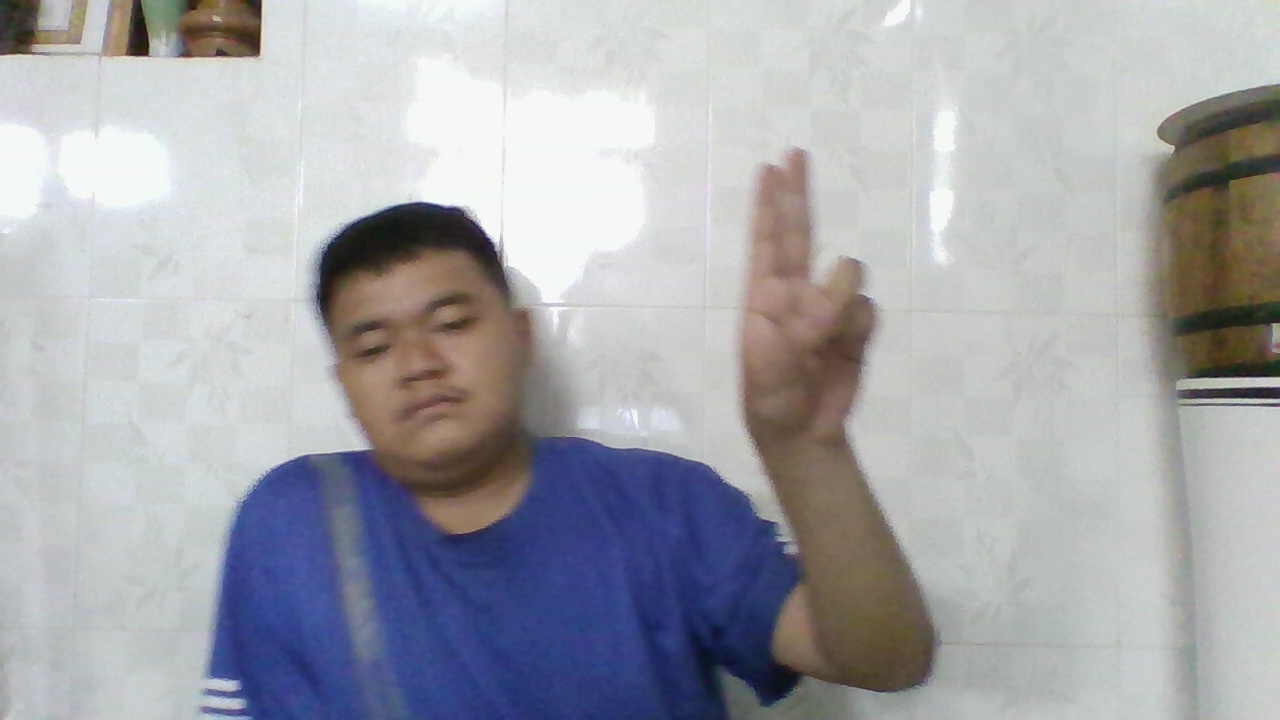U: (750, 144, 884, 454)
